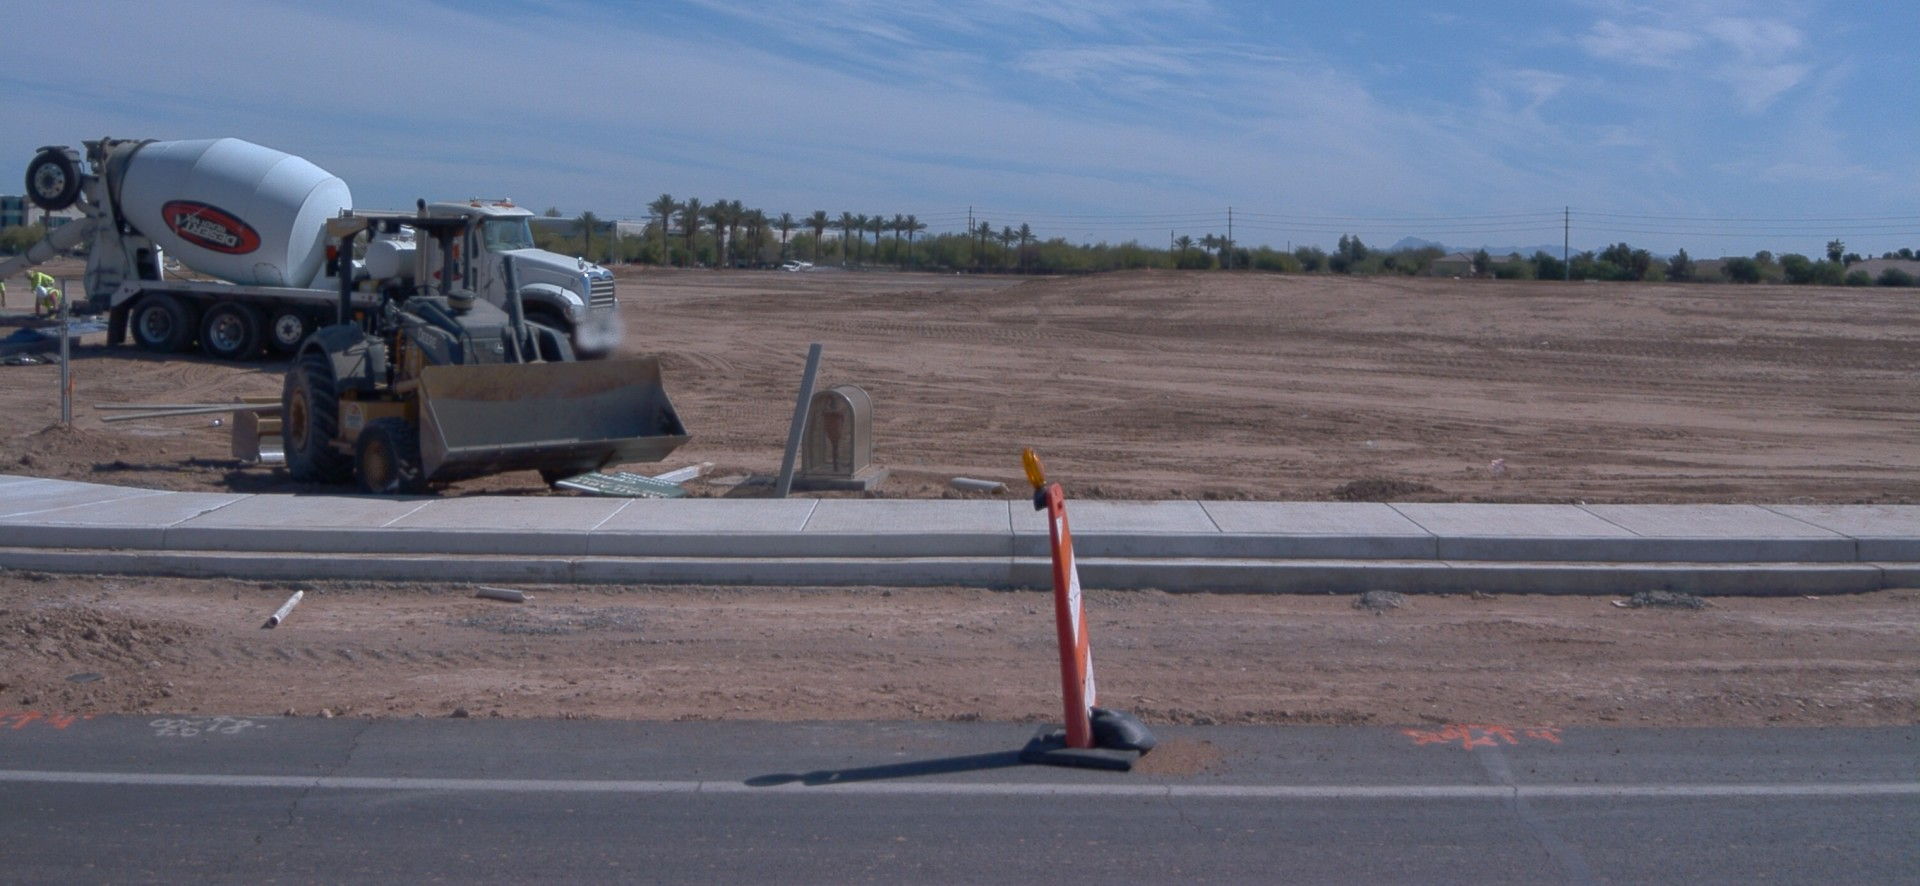TYPE_PEDESTRIAN: (29, 280, 67, 323), (22, 267, 55, 297), (0, 279, 9, 311)
TYPE_VEHICLE: (93, 204, 689, 494), (4, 133, 633, 368), (777, 257, 810, 272)
